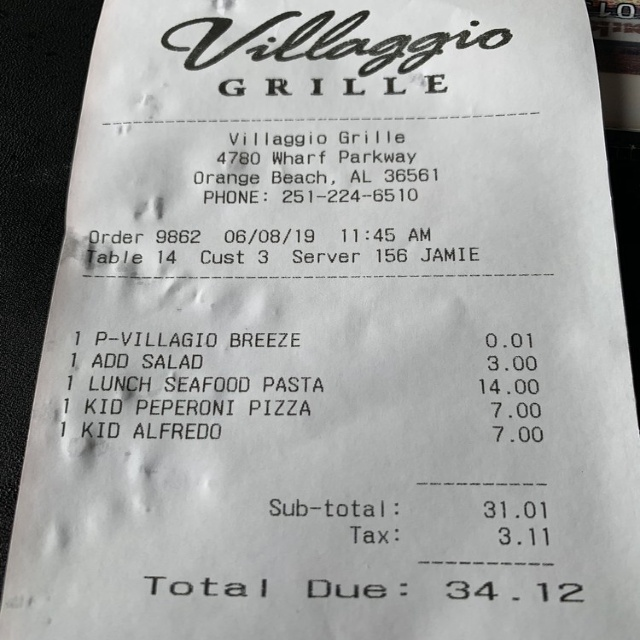invoice_table: (58, 328, 545, 444)
invoice_title: (193, 128, 440, 187)
invoice_total: (142, 573, 586, 605)
